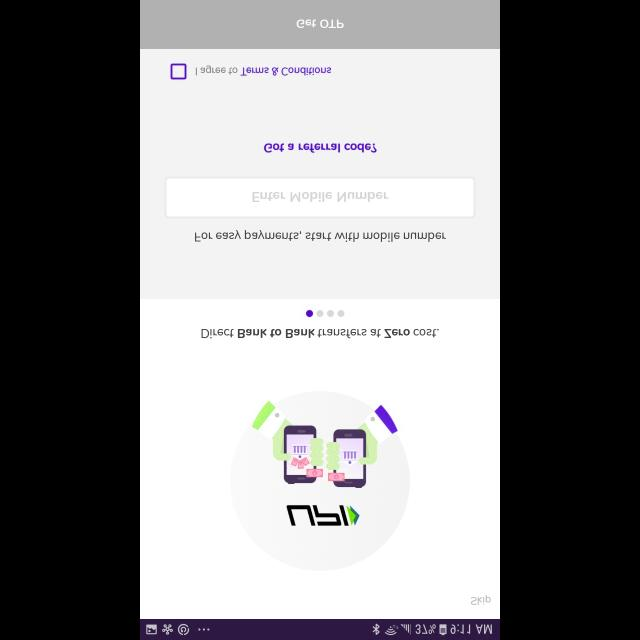checkbox: (170, 64, 186, 80)
image: (230, 390, 410, 570)
input: (164, 176, 476, 218)
pageindicator: (306, 310, 346, 316)
text: (196, 230, 447, 242), (202, 329, 440, 339), (196, 64, 332, 76), (253, 192, 389, 202), (264, 143, 376, 153), (471, 595, 491, 605)
textbutton: (140, 0, 499, 49)
uppertaskbar: (140, 618, 500, 640)
